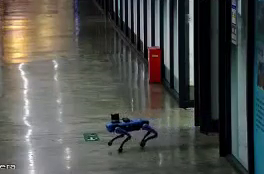robot dog: (105, 112, 160, 155)
